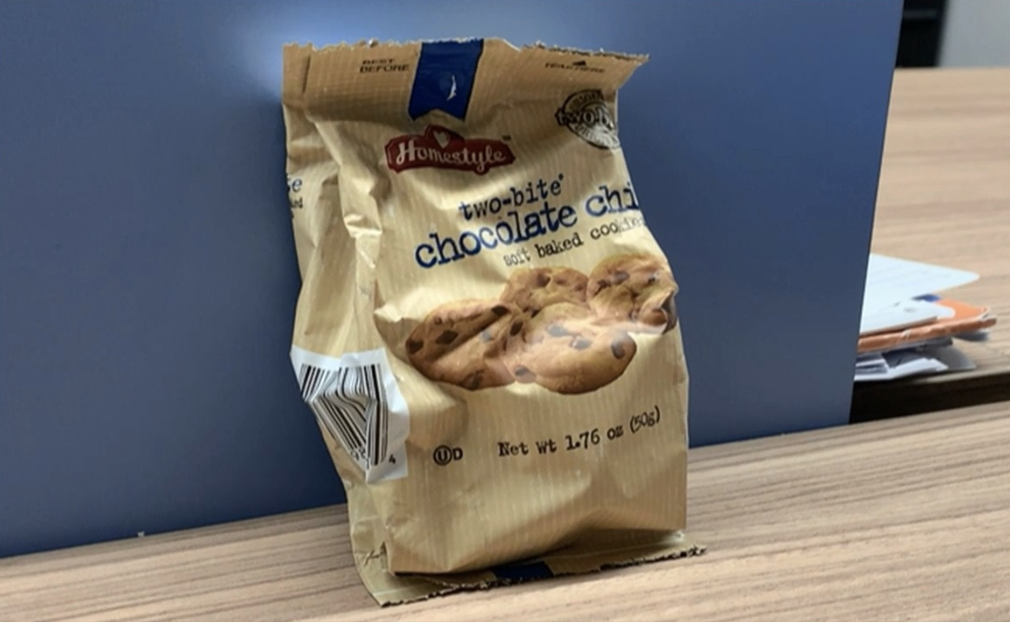cookies_50g: (354, 129, 656, 482)
